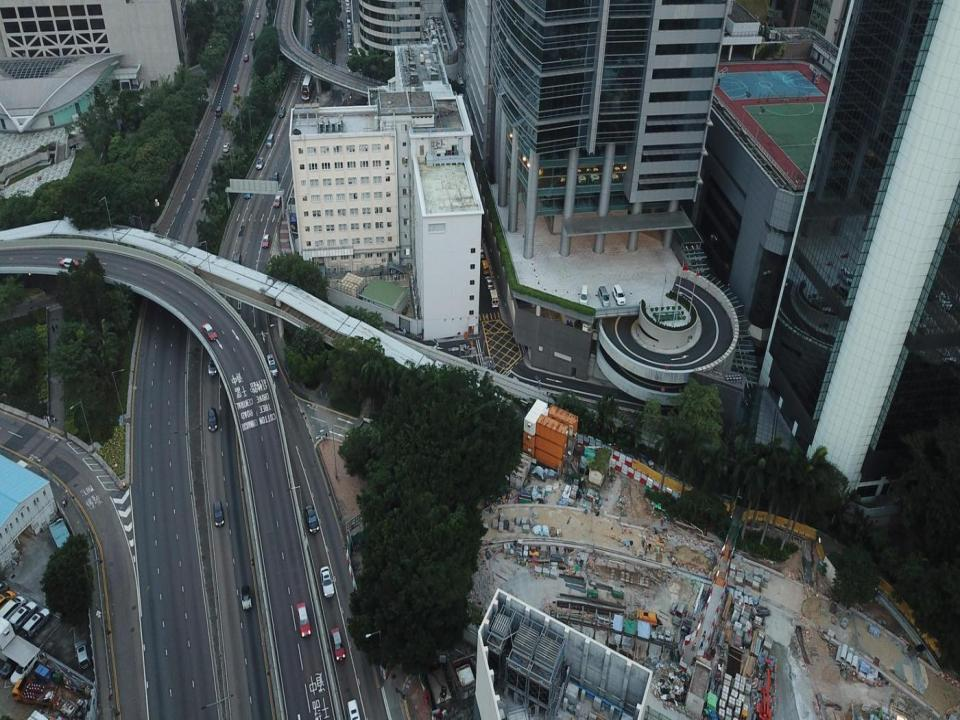bus: (301, 64, 313, 103)
car: (0, 647, 29, 679), (74, 636, 92, 672), (294, 601, 311, 638), (331, 623, 346, 658), (319, 566, 335, 596), (303, 505, 320, 533), (207, 405, 220, 432), (58, 254, 81, 269), (202, 322, 218, 342), (240, 585, 253, 609), (212, 502, 223, 527), (243, 183, 253, 202), (272, 188, 280, 209), (262, 234, 269, 251), (256, 157, 264, 170), (484, 274, 492, 286), (278, 106, 286, 117), (223, 139, 230, 151), (478, 248, 484, 262), (343, 0, 352, 9), (346, 26, 353, 36), (344, 6, 351, 16), (243, 51, 248, 64), (347, 29, 352, 42), (346, 49, 353, 56), (234, 82, 238, 94), (308, 14, 312, 26), (249, 30, 254, 39), (256, 11, 260, 16), (347, 42, 351, 47)
van: (21, 608, 52, 640), (8, 600, 38, 630), (10, 654, 39, 684), (0, 598, 27, 626), (0, 589, 15, 618), (264, 353, 278, 378), (598, 284, 612, 308), (347, 696, 359, 719), (612, 284, 625, 304), (208, 347, 217, 375), (489, 287, 500, 305), (580, 284, 588, 304), (231, 253, 241, 269), (481, 258, 491, 272), (270, 168, 278, 185), (344, 11, 351, 26), (266, 134, 274, 146), (214, 106, 221, 119), (344, 18, 350, 27)
